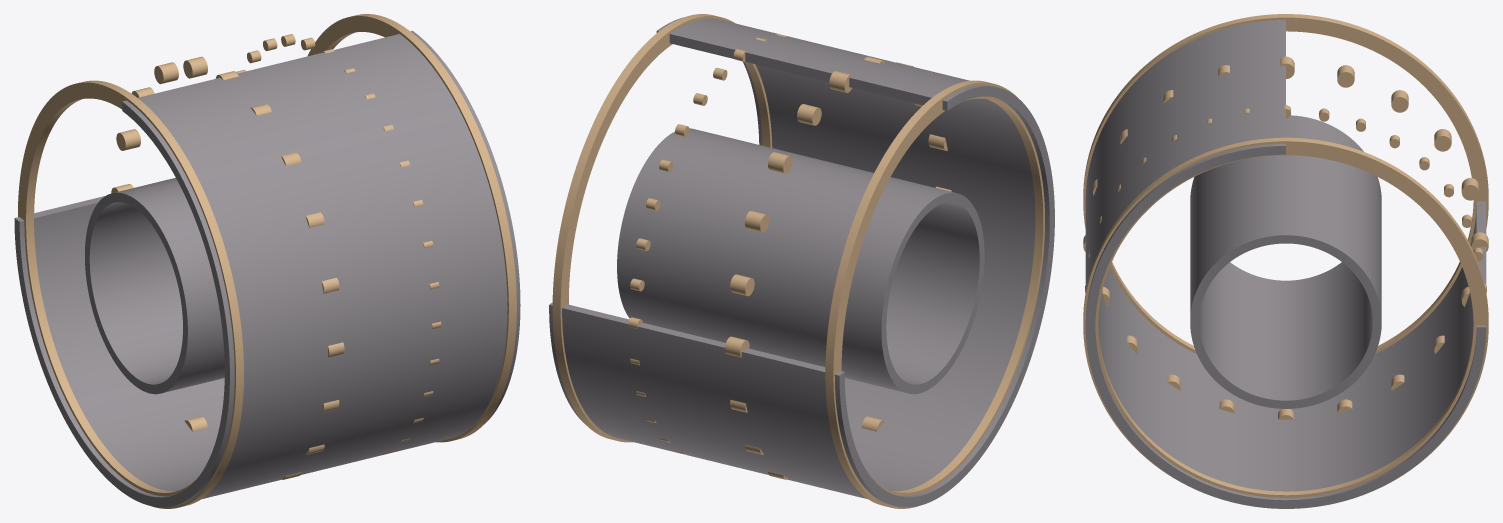
The model's file is combustor-liner.glb.
3 renders of one model, left to right at view 1: azimuth 30°, elevation 25°; view 2: azimuth 150°, elevation 25°; view 3: azimuth 270°, elevation 25°, orthographic. The views are drawn at different scales.
Visible parts, largest first — view 1: combustor-liner - heat_shell, combustor-liner - bronze; view 2: combustor-liner - heat_shell, combustor-liner - bronze; view 3: combustor-liner - heat_shell, combustor-liner - bronze.
Part boxes in pixels (left/top/right/bottom): combustor-liner - heat_shell: left=14, top=30, right=520, bottom=507; combustor-liner - bronze: left=18, top=14, right=516, bottom=508; combustor-liner - heat_shell: left=549, top=17, right=1054, bottom=507; combustor-liner - bronze: left=552, top=14, right=1044, bottom=508; combustor-liner - heat_shell: left=1085, top=20, right=1486, bottom=508; combustor-liner - bronze: left=1083, top=14, right=1488, bottom=508.
Size of the model in its own units: 1.23 by 1.6 by 1.6.
